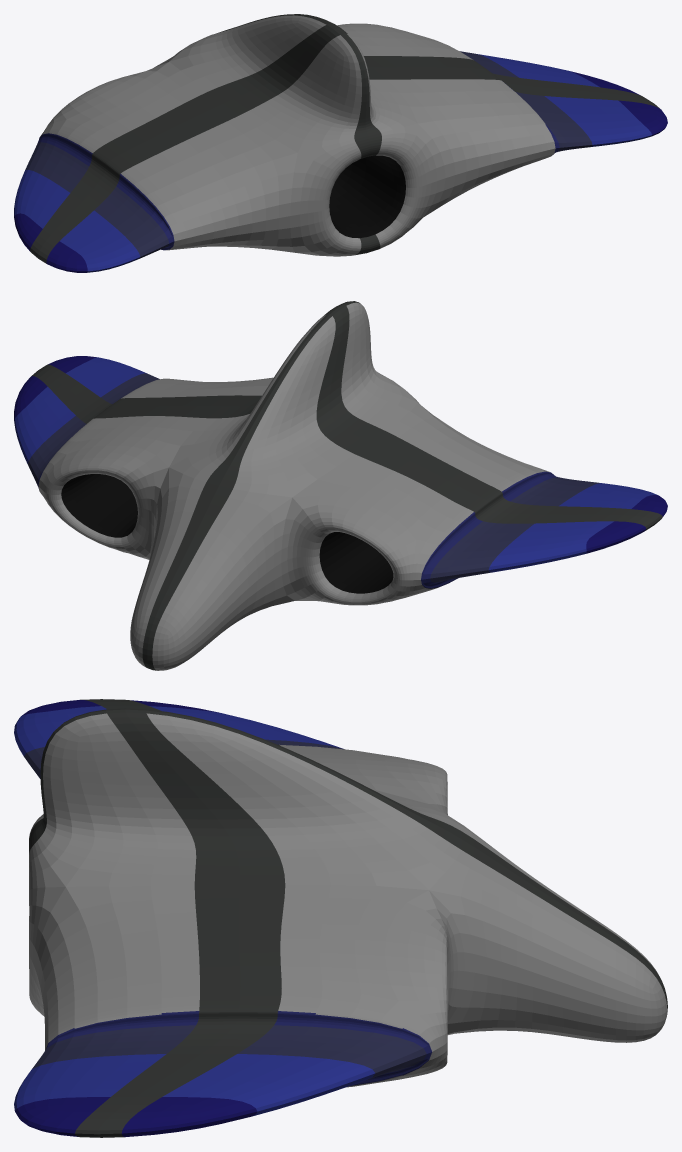
Rendered from nave_inimigoV2.gltf.
3 views of the same model, one above another, from view 1: azimuth 30°, elevation 25°; view 2: azimuth 150°, elevation 25°; view 3: azimuth 270°, elevation 25° (orthographic). The views are drawn at different scales.
Visible parts, largest first — view 1: Cube; view 2: Cube; view 3: Cube.
Part boxes in pixels (x1,y1,x2,y2): Cube: (14, 14, 667, 272); Cube: (14, 301, 667, 670); Cube: (14, 699, 667, 1137).
Size of the model in its own units: 9.68 by 3.43 by 6.2.
